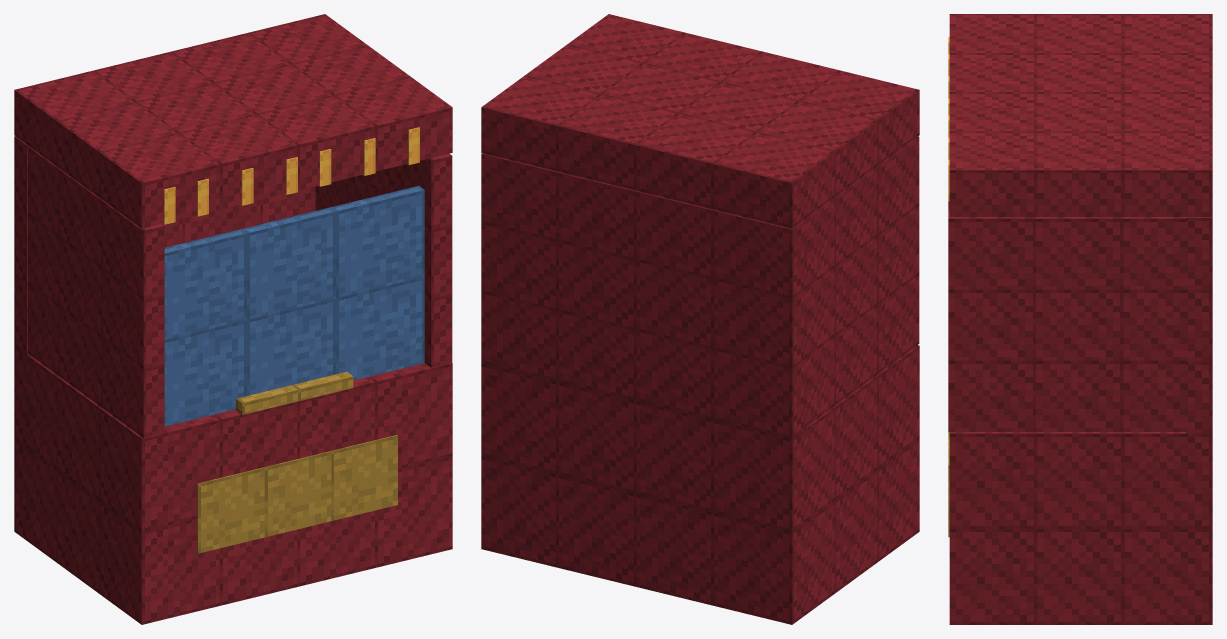
Rendered from ticketBooth_1.glb.
3 views of the same model, side by side, from view 1: azimuth 30°, elevation 25°; view 2: azimuth 150°, elevation 25°; view 3: azimuth 270°, elevation 25° (orthographic). The views are drawn at different scales.
Parts seen in each view (by area): view 1: ticketBooth_1; view 2: ticketBooth_1; view 3: ticketBooth_1.
Boxes of the visible parts, x1,y1,x2,y2 form: ticketBooth_1: (14, 14, 452, 624); ticketBooth_1: (481, 14, 919, 624); ticketBooth_1: (948, 14, 1212, 624).
Size of the model in its own units: 1.75 by 2.38 by 1.25.
1 material, 1 textured.
